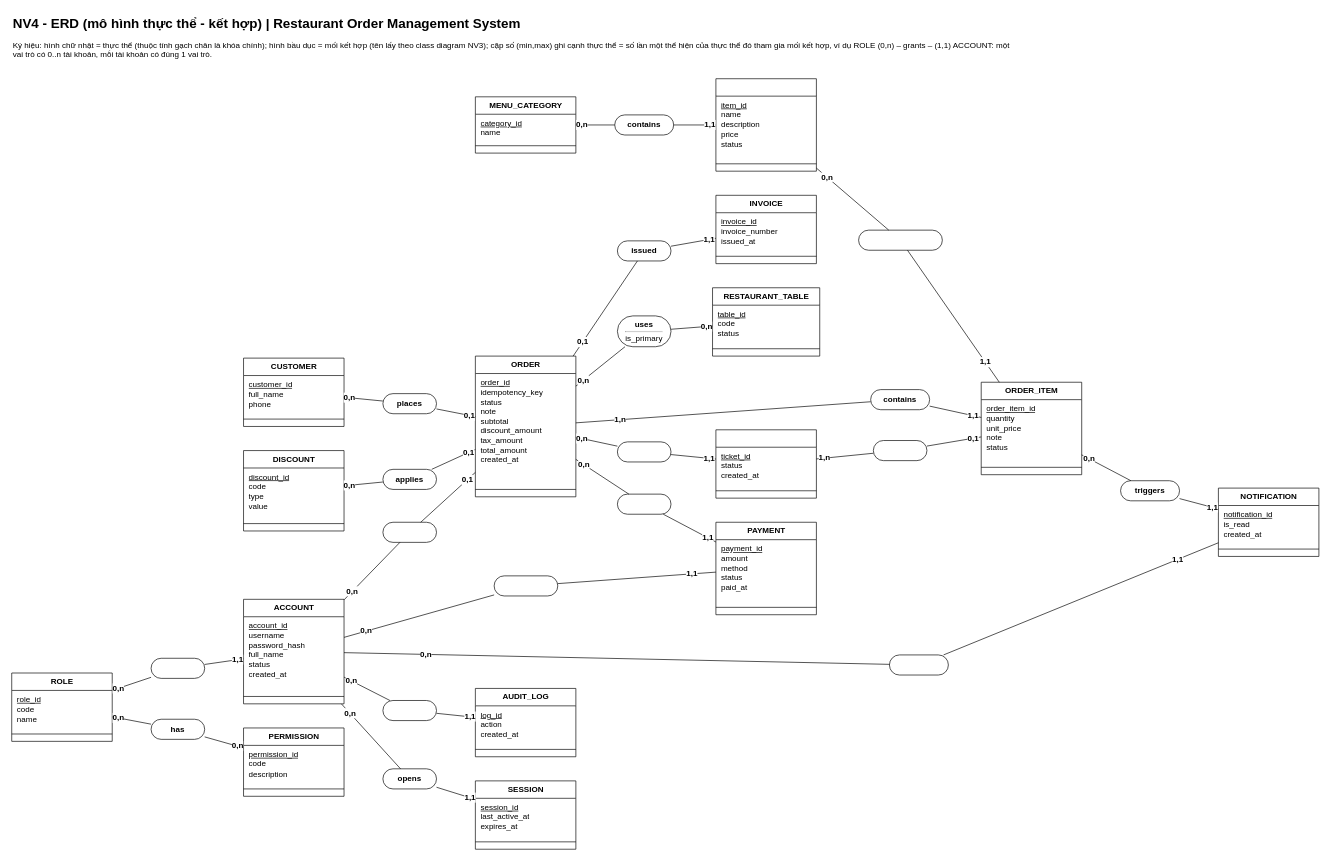
Some shapes in this 1331 by 861 pixel diagram are drawn without their labels. Each missing label, with the box of its shape:
creates: (382, 522, 437, 542)
grants: (150, 658, 205, 678)
groups: (873, 440, 927, 461)
KITCHEN_TICKET: (715, 429, 816, 498)
MENU_ITEM: (715, 78, 816, 171)
paid_by: (617, 493, 671, 514)
processes: (493, 575, 558, 596)
receives: (889, 654, 948, 675)
referenced_by: (858, 229, 942, 250)
sends: (617, 441, 671, 462)
writes: (382, 700, 437, 721)
